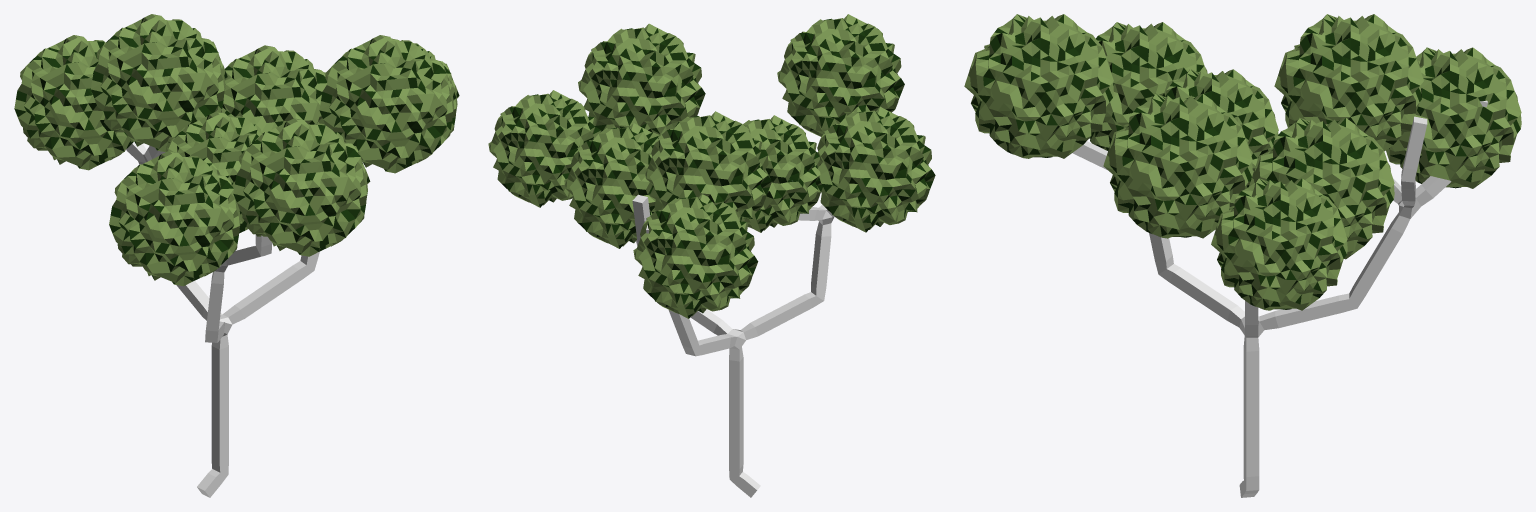
The model's file is Circuito_Arboles 2.fbx.
3 views of the same model, side by side, from view 1: azimuth 30°, elevation 25°; view 2: azimuth 150°, elevation 25°; view 3: azimuth 270°, elevation 25° (orthographic). The views are drawn at different scales.
Parts seen in each view (by area): view 1: Icosphere.001, Icosphere.005, Icosphere.002, Icosphere.008, Icosphere.007, Cube, Icosphere.004, Icosphere.009; view 2: Icosphere.007, Icosphere.002, Icosphere.001, Icosphere.005, Icosphere.008, Icosphere.003, Icosphere.004, Cube, Icosphere.009; view 3: Icosphere.001, Icosphere.005, Icosphere.008, Icosphere.003, Icosphere.007, Cube, Icosphere.004, Icosphere.002, Icosphere.009.
Boxes of the visible parts, x1,y1,x2,y2 form: Icosphere.001: (233,118,370,256); Icosphere.005: (319,35,456,173); Icosphere.002: (109,151,241,286); Icosphere.008: (90,14,227,152); Icosphere.007: (14,35,133,170); Cube: (126,141,319,497); Icosphere.004: (221,45,326,133); Icosphere.009: (165,111,262,233); Icosphere.007: (633,194,758,318); Icosphere.002: (817,106,935,232); Icosphere.001: (777,14,904,136); Icosphere.005: (578,23,705,135); Icosphere.008: (644,111,771,221); Icosphere.003: (488,90,601,207); Icosphere.004: (564,123,659,248); Cube: (632,194,834,497); Icosphere.009: (743,115,822,232); Icosphere.001: (964,14,1113,158); Icosphere.005: (1103,93,1252,238); Icosphere.008: (1274,14,1423,151); Icosphere.003: (1211,178,1347,310); Icosphere.007: (1386,47,1521,188); Cube: (1072,100,1487,497); Icosphere.004: (1249,118,1394,259); Icosphere.002: (1089,22,1207,150); Icosphere.009: (1165,69,1278,188).
Size of the model in its own units: 1110 by 1186 by 1247.
